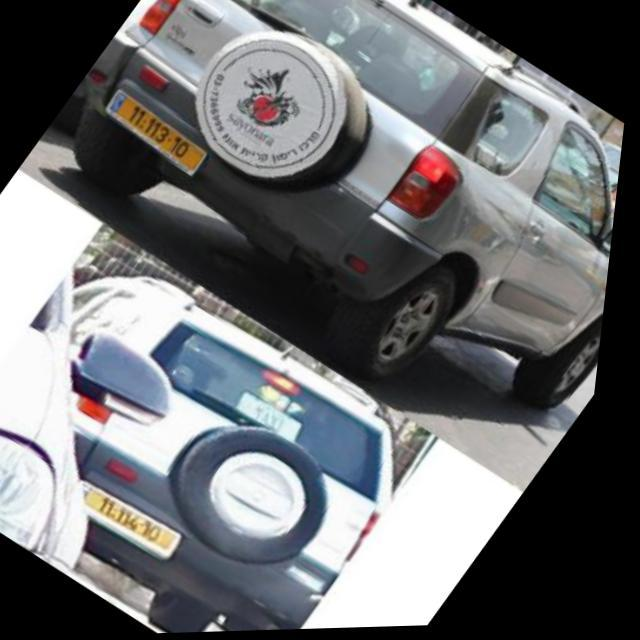license_plate: (70, 470, 205, 570), (94, 85, 224, 182)
